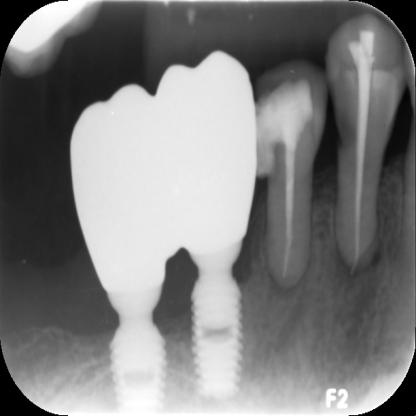Bicon: (189, 269, 247, 401), (107, 314, 166, 414)
